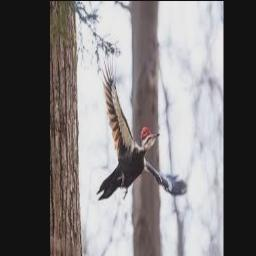Woodpecker: (97, 55, 188, 200)
